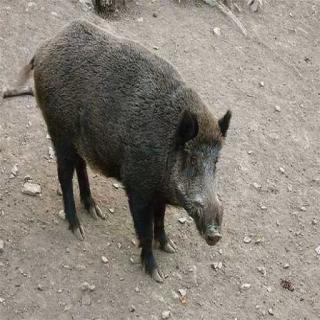Pig: (23, 0, 253, 280)
